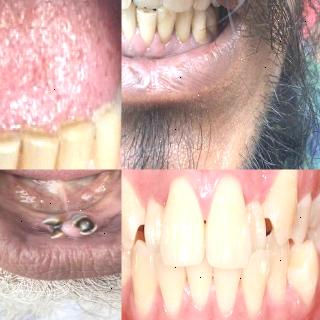Gum Swelling: (182, 170, 228, 220), (226, 170, 284, 206), (176, 284, 197, 316)
maligned: (287, 238, 319, 310), (241, 251, 271, 313), (122, 178, 140, 241), (296, 191, 314, 247), (144, 202, 164, 252), (242, 204, 265, 240), (132, 0, 162, 11)
plaque: (172, 23, 188, 47), (191, 26, 209, 46)
stains: (12, 139, 28, 169), (156, 11, 177, 31), (131, 6, 140, 32)
